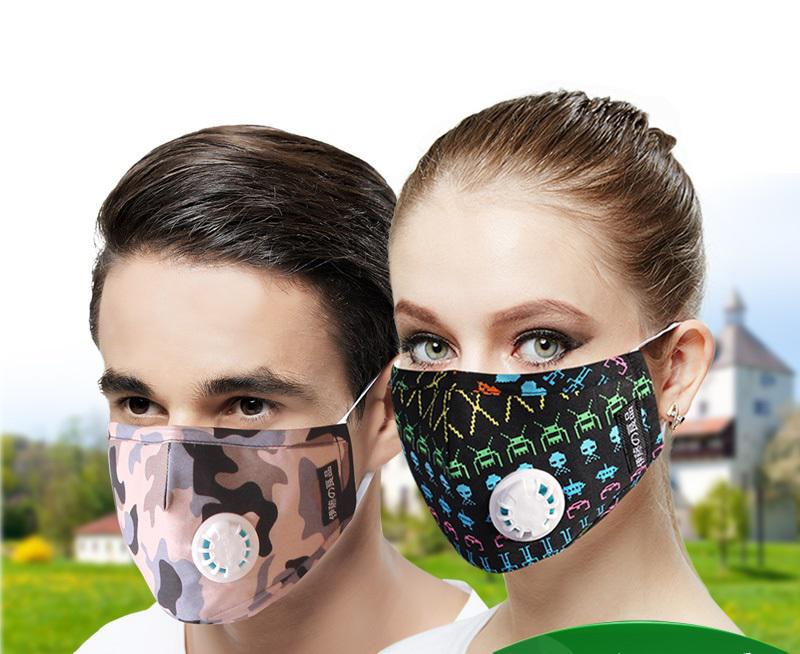OK: (394, 284, 673, 563), (103, 354, 367, 618)
